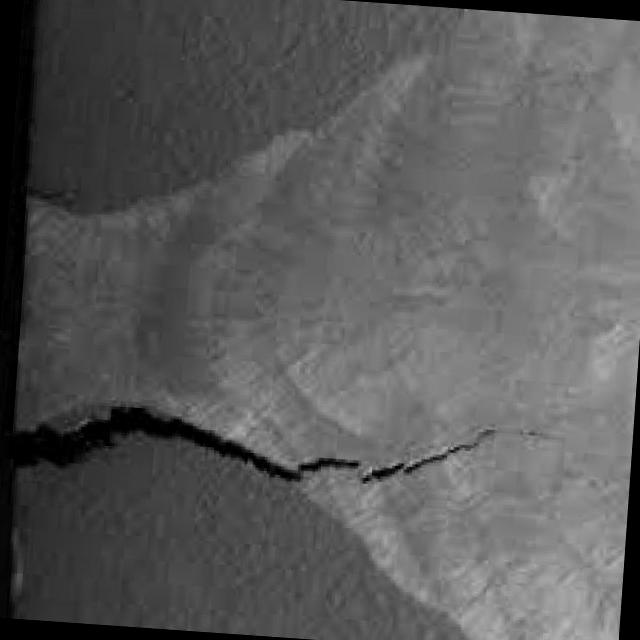defect: (11, 393, 523, 493)
